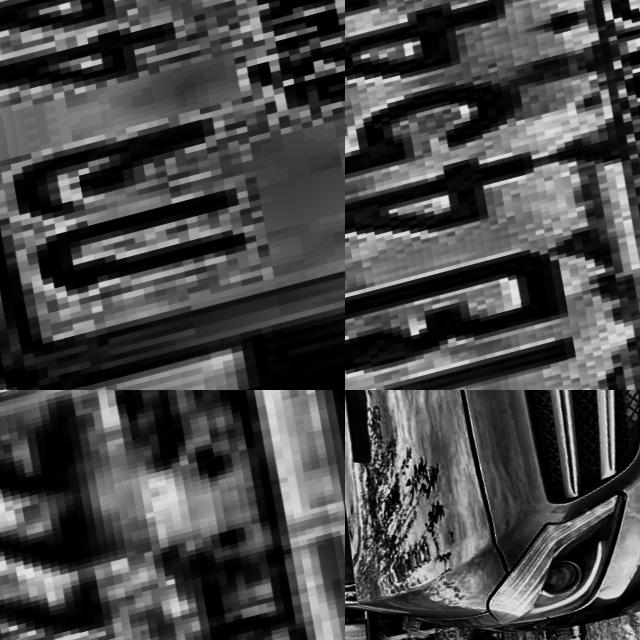license-plate: (0, 0, 345, 390), (345, 0, 640, 390), (0, 390, 345, 640)
